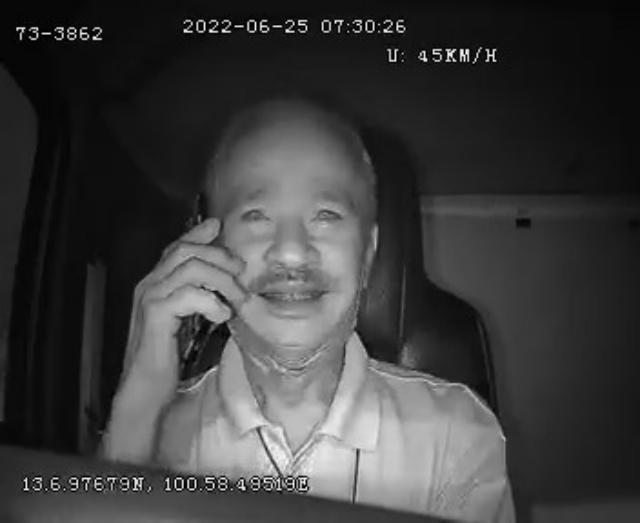PhoneUse: (174, 194, 218, 390)
SafeDriving: (304, 191, 354, 234), (232, 194, 278, 232)
